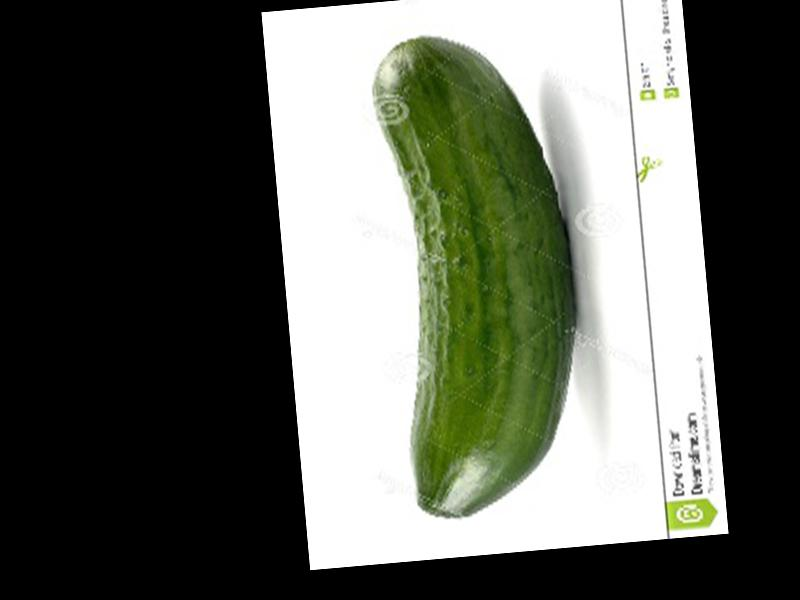Cucumber: (373, 26, 592, 518)
